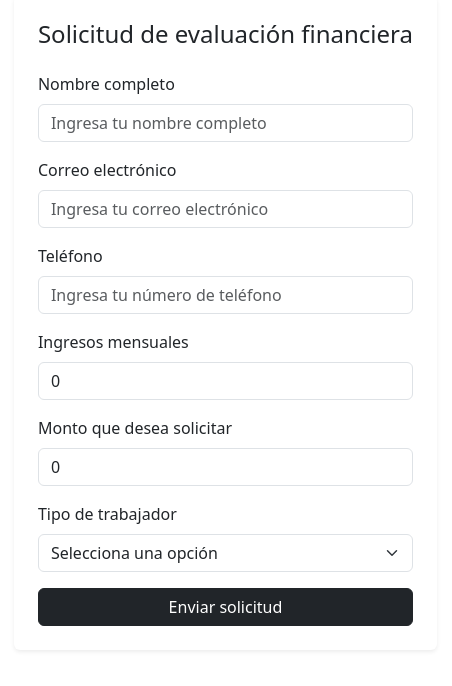
Campos obligatorios › no muestra previsualización si el teléfono está vacío
This screenshot has width=452, height=686.
Type "Juan Pérez" into the field with id "nombre" at (225, 123), box [38,104,413,142]
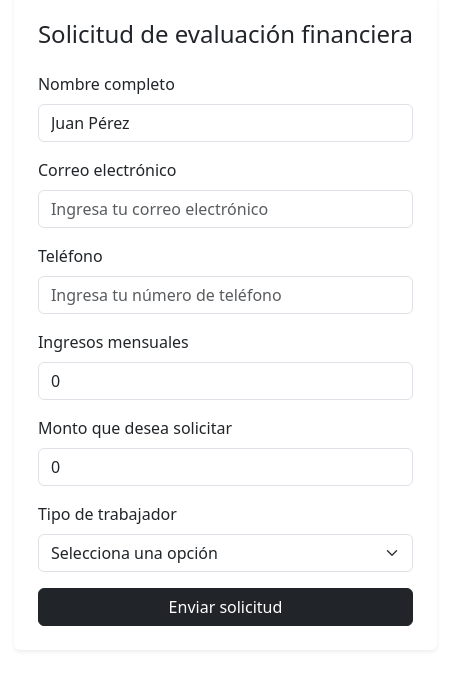
Type "juan@correo.com" into the field with id "correo" at (225, 209), box [38,190,413,228]
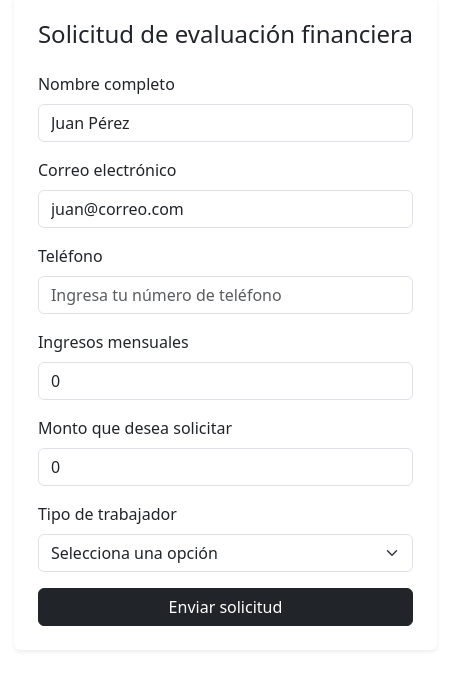
Replace the text in the number field with id "ingresos" with "1500000" at (225, 381), box [38,362,413,400]
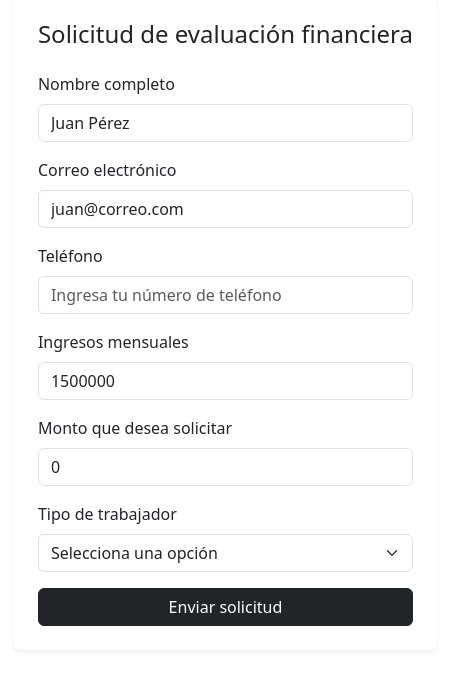
Replace the text in the number field with id "monto" with "500000" at (225, 467), box [38,448,413,486]
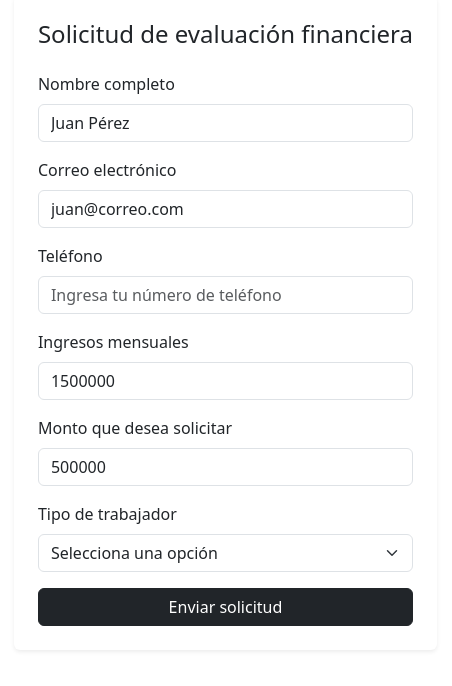
Select "Dependiente" in the dropdown with id "trabajador" at (225, 553), box [38,534,413,572]
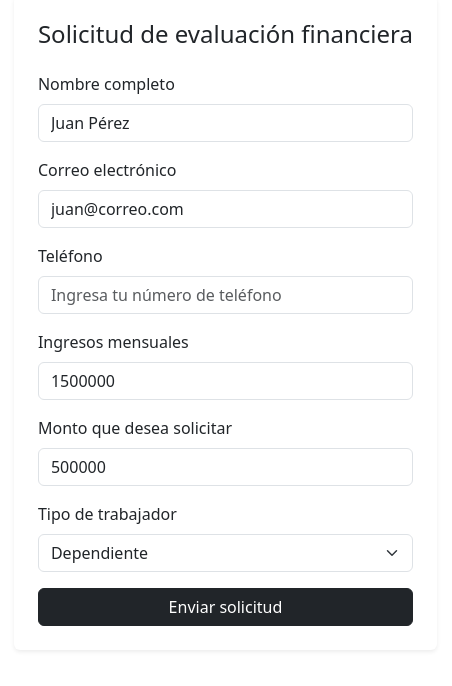
Click the button "Enviar solicitud" at (225, 607), box [38,588,413,626]
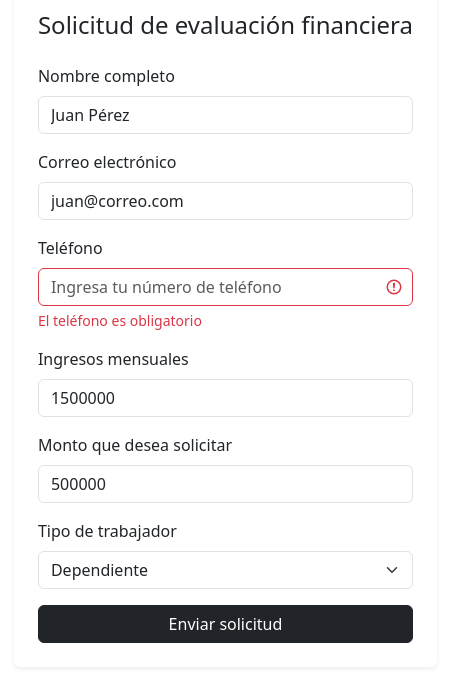
Expected: the text "El teléfono es obligatorio" is shown, [38,311,202,330]
